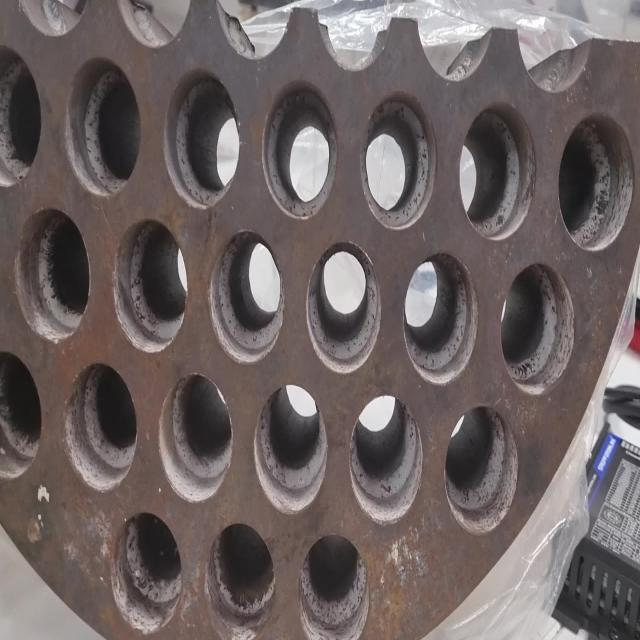Hole: (163, 68, 241, 210), (557, 111, 636, 251), (63, 56, 140, 198), (457, 102, 536, 240), (262, 78, 338, 220), (360, 90, 437, 230), (14, 206, 90, 344), (112, 218, 188, 354), (208, 229, 284, 364), (306, 240, 382, 374), (403, 250, 478, 385), (348, 392, 423, 526), (443, 404, 519, 536), (253, 384, 328, 516), (158, 372, 233, 503), (500, 262, 574, 394), (63, 362, 137, 492), (111, 510, 183, 634), (204, 520, 275, 635), (298, 532, 370, 640), (0, 45, 42, 187), (0, 348, 42, 481)
